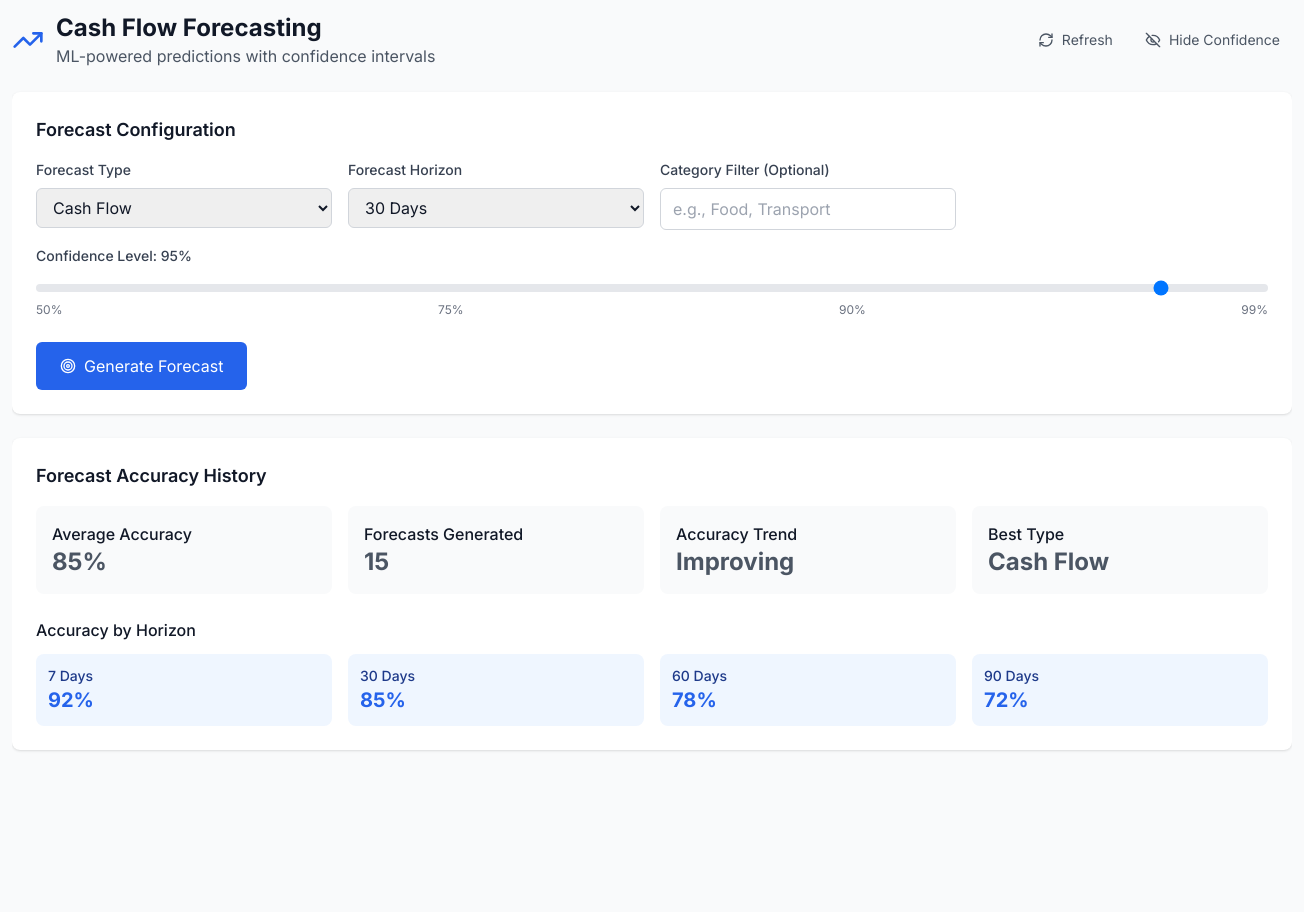
Test: ForecastingDashboard › handles forecast generation error
Click the button "Generate Forecast" at (142, 366), box [36,342,247,390]
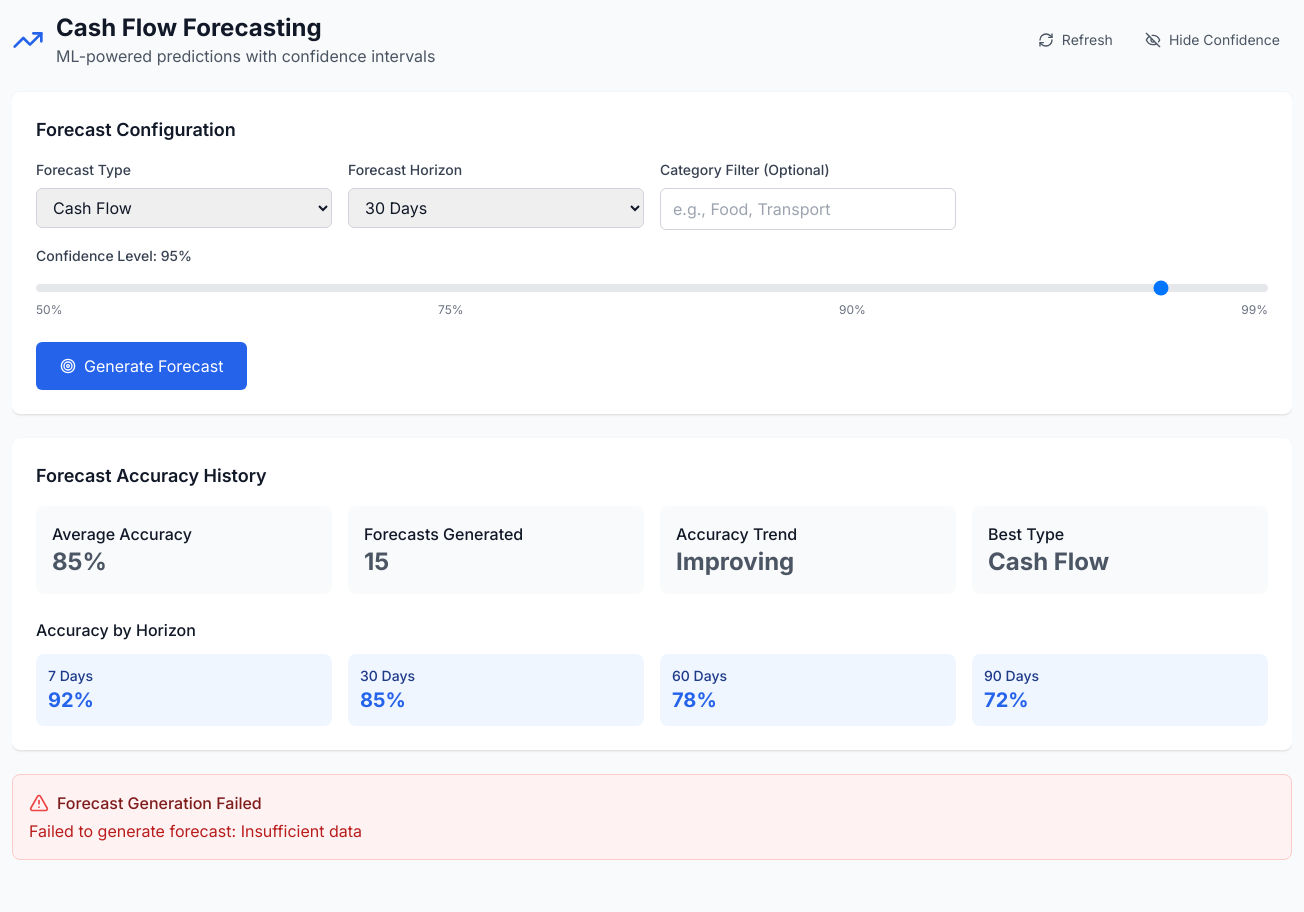
Expected: the heading "Forecast Generation Failed" is shown, [57,791,262,815]
Expected: the text "Failed to generate forecast: Insufficient data" is shown, [29,821,362,841]
